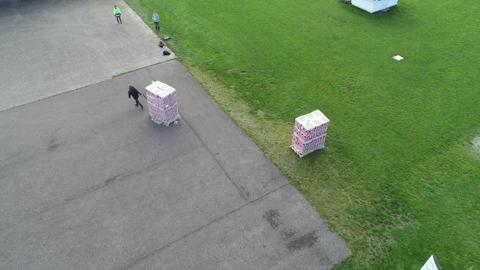RockwoolPallet: (147, 80, 181, 129)
